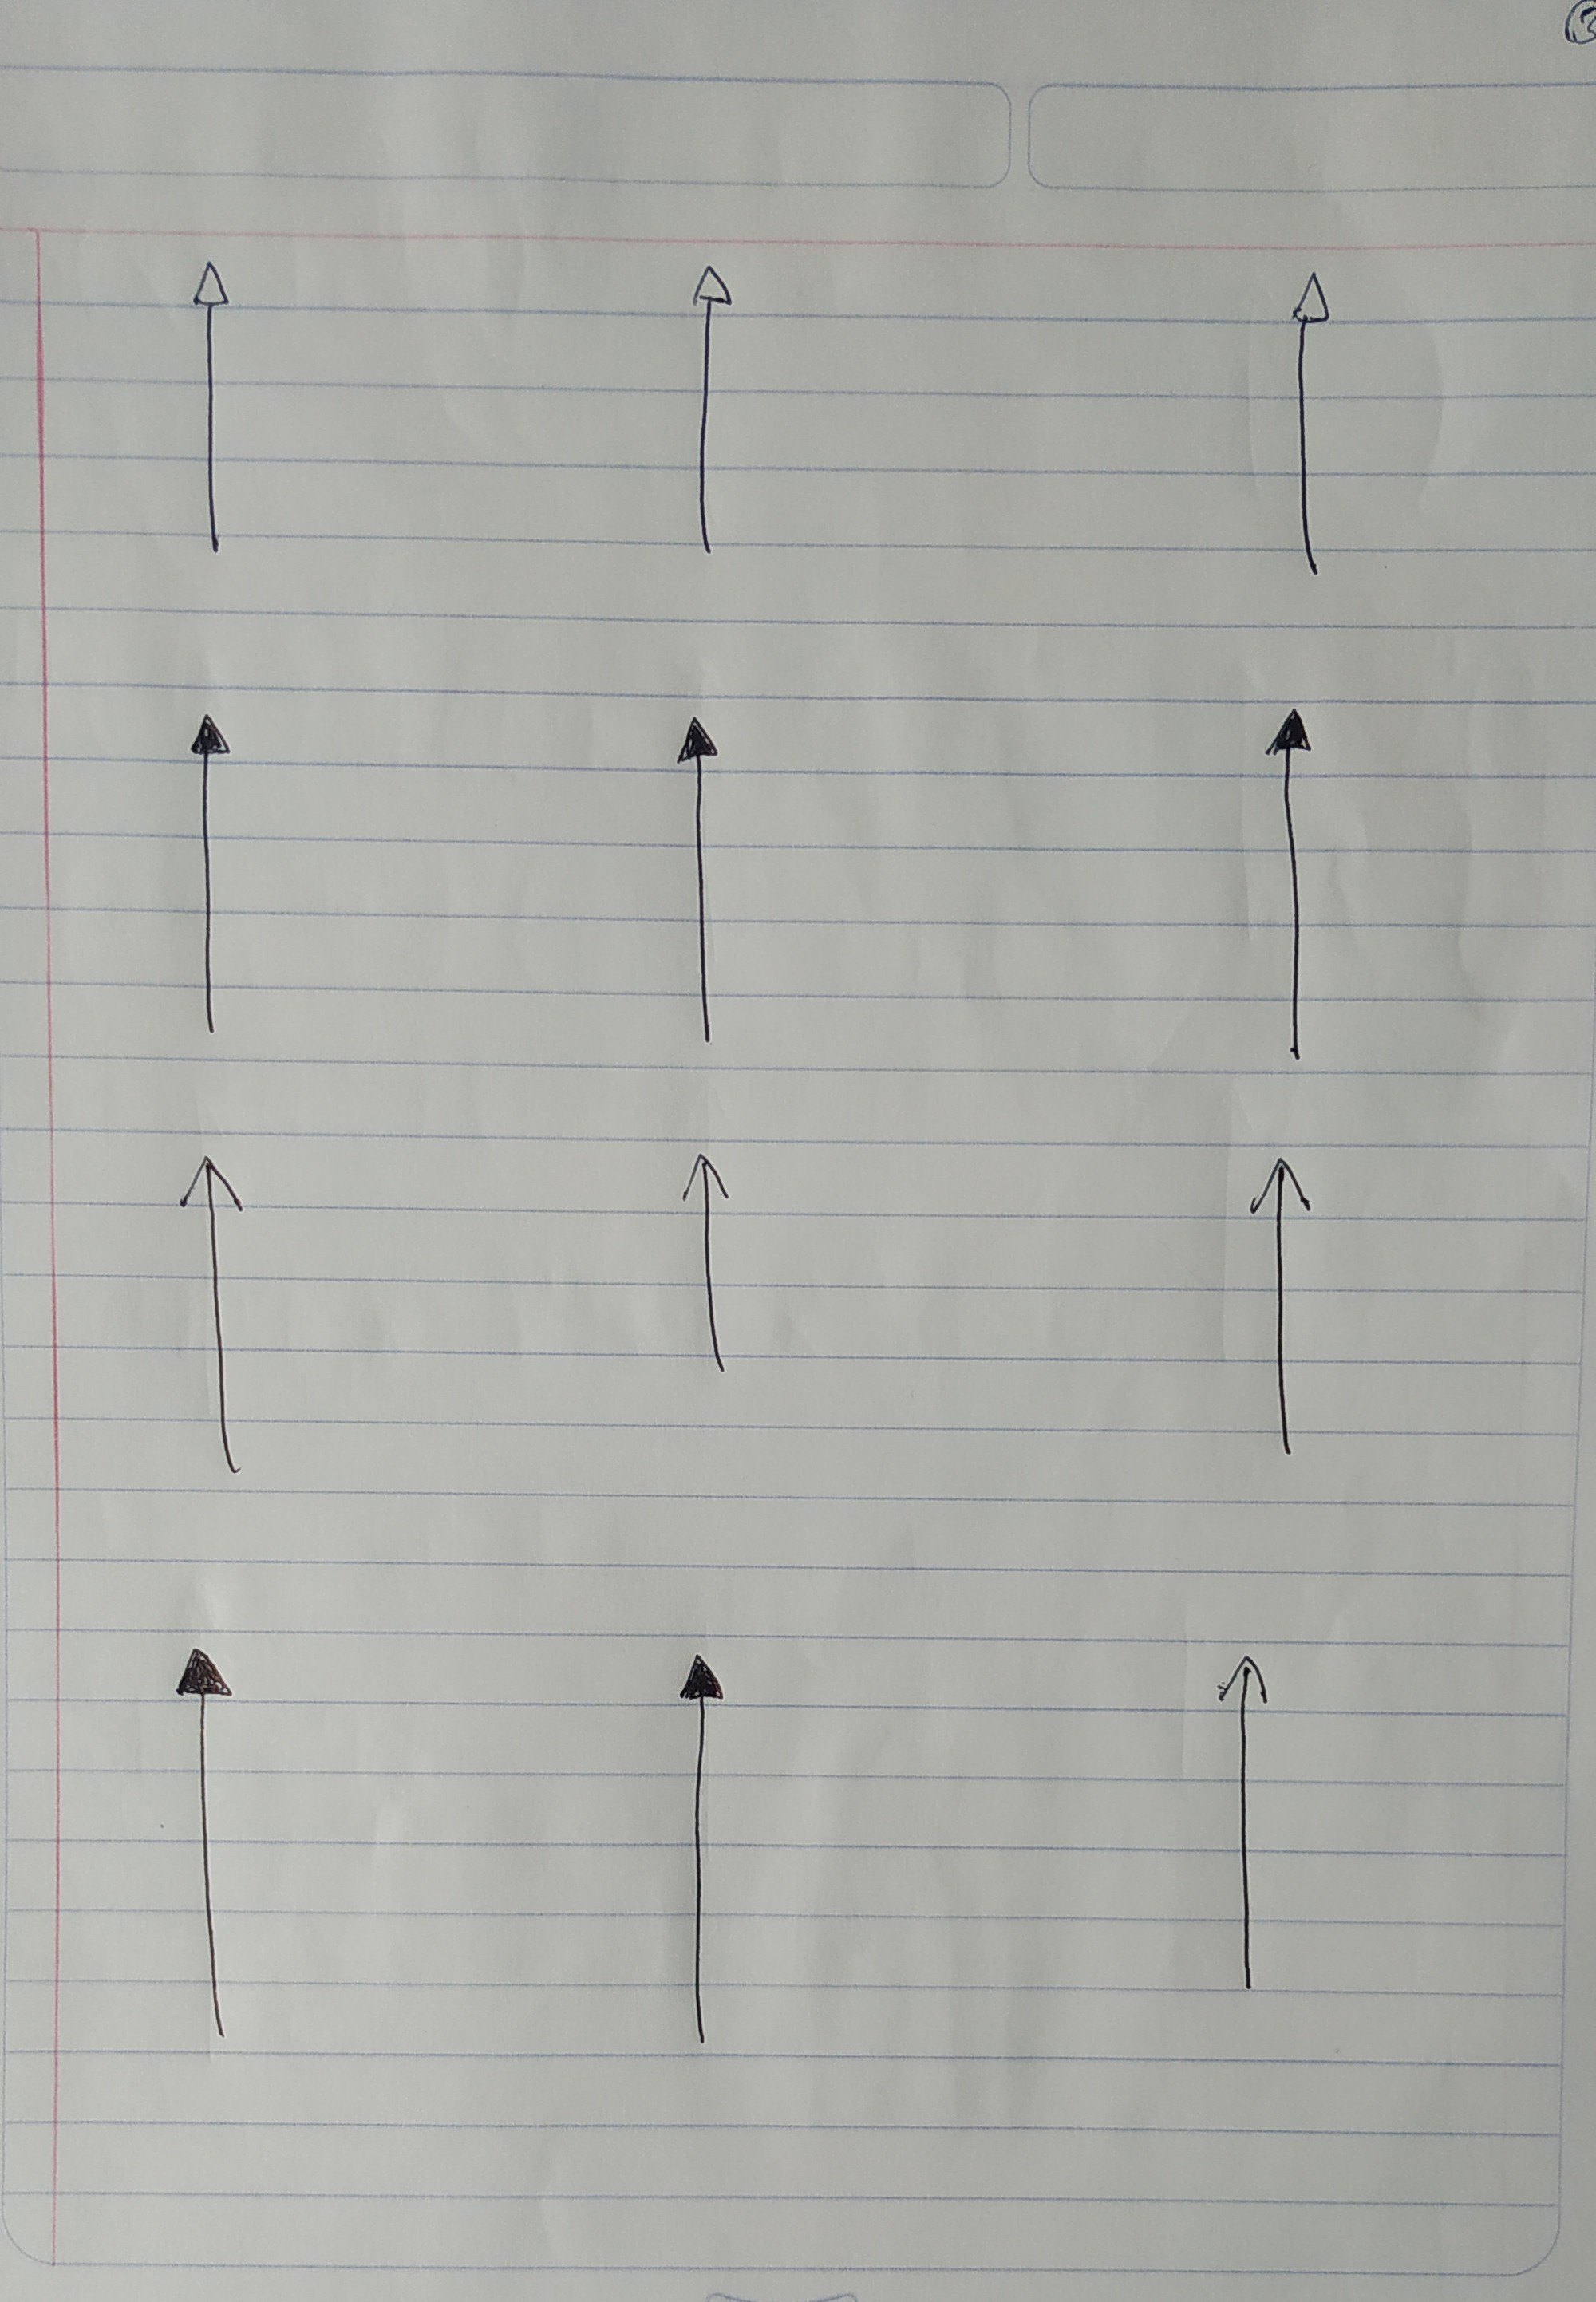arrow_line_up: (163, 1643, 243, 2048), (1237, 1153, 1332, 1462), (173, 1153, 261, 1480), (663, 710, 739, 1055), (1256, 703, 1326, 1071), (669, 1646, 728, 2055), (177, 710, 240, 1051), (1276, 266, 1342, 581), (1211, 1651, 1271, 1992), (180, 255, 238, 563), (674, 1153, 746, 1391), (679, 255, 733, 556)
